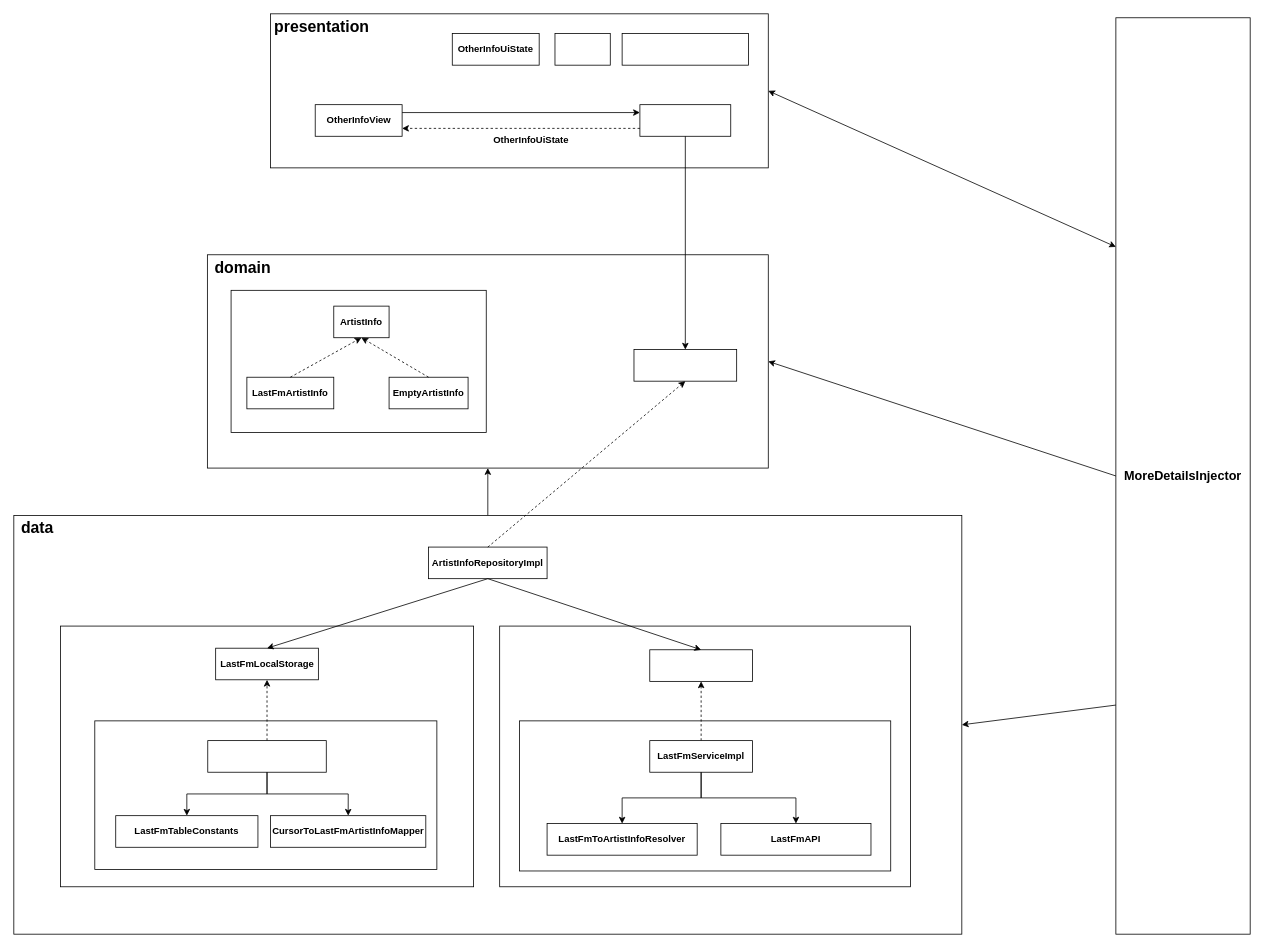
This 1264x948 diagram has some shape labels left out. The box of each missing label's shape, as (x1, y1, x2, y2) in pixels:
ArtistInfoRepository: (633, 349, 737, 381)
ArtistInfoTextHelper: (621, 33, 749, 65)
HtmlHelper: (554, 33, 610, 65)
LastFmLocalStorageImpl: (207, 740, 326, 772)
LastFmService: (649, 649, 752, 681)
OtherInfoPresenter: (639, 104, 731, 136)
